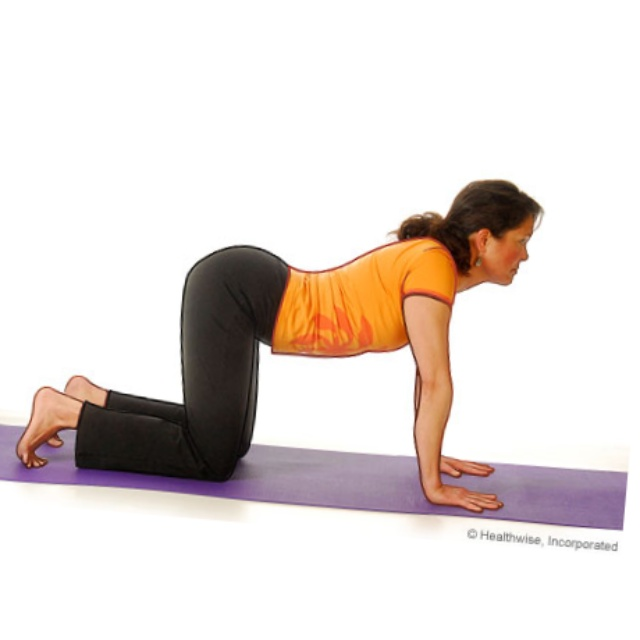Cow_Pose: (15, 180, 544, 513)
